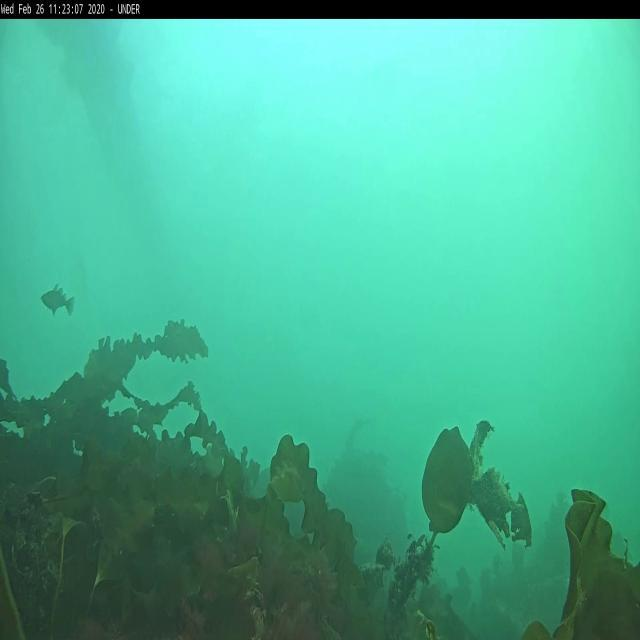fish: (41, 286, 75, 314)
